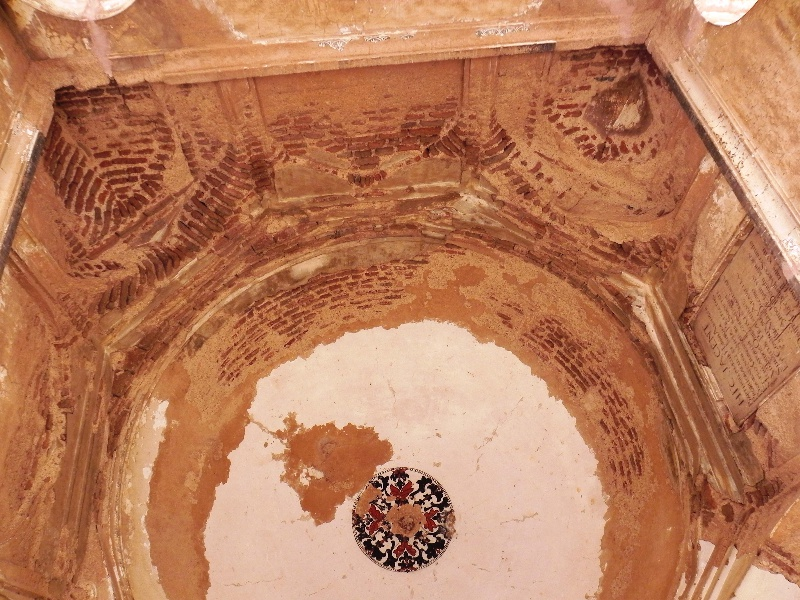Exposed Bricks: (211, 108, 518, 233), (40, 83, 206, 300), (210, 249, 417, 397), (495, 284, 643, 490)
Spalling: (276, 409, 343, 532)
